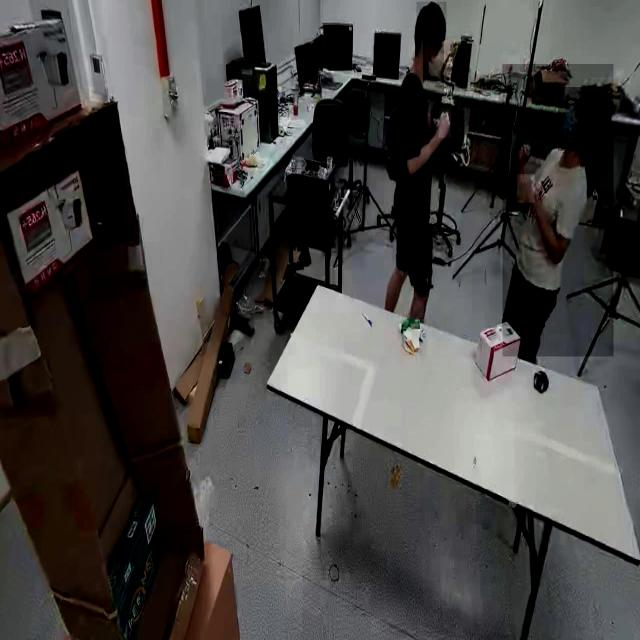face_mask: (558, 87, 597, 151), (422, 34, 444, 92)
hand_noglove: (516, 174, 534, 204), (438, 108, 452, 138), (517, 142, 533, 166)
head_nohelmet: (590, 78, 614, 134), (416, 2, 446, 29)
person: (502, 64, 614, 357), (380, 0, 464, 327)
